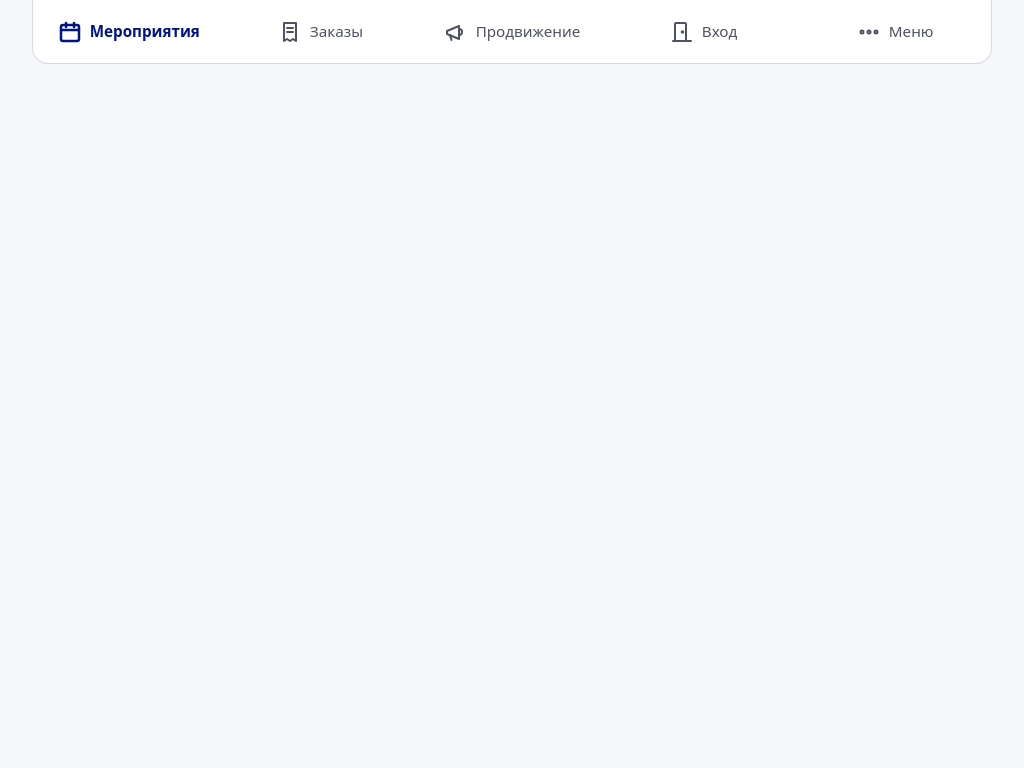
Test case: Menu › lists the sections as headed groups in the order of the bot's menu
Step 1. Click the button with test id "nav-more" → (895, 32), box [799,0,991,63]
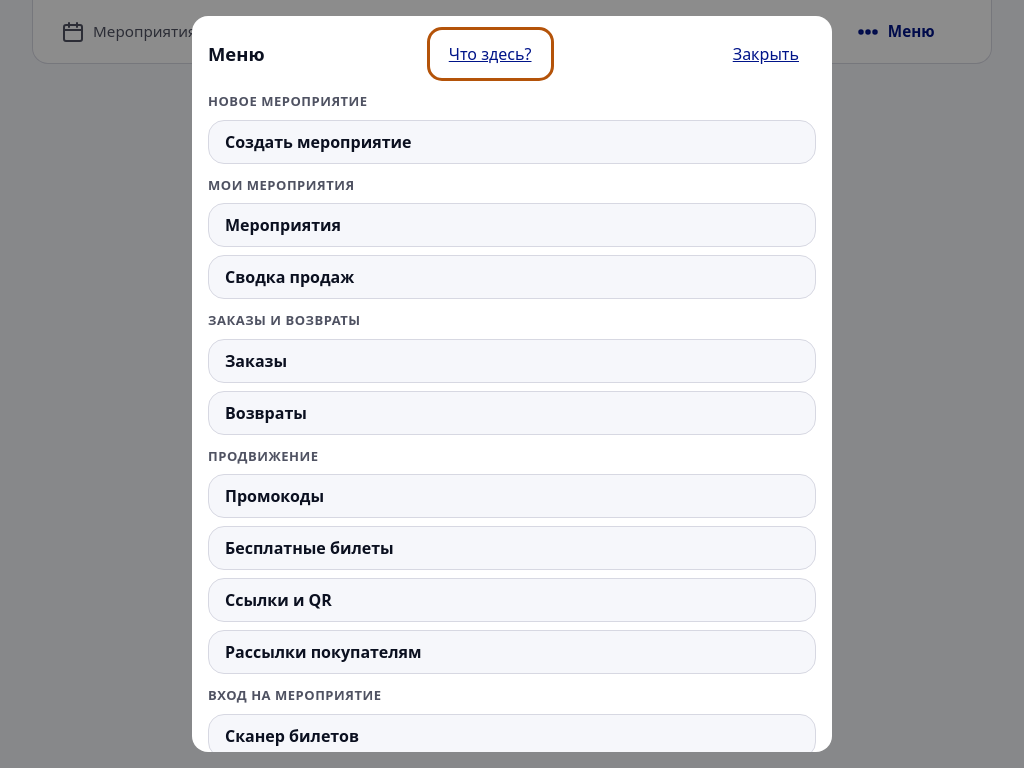
Result: the button with test id "nav-more" is expanded at [799,0,991,63]
Result: the dialog with test id "more-sheet" is shown at [192,16,832,752]
